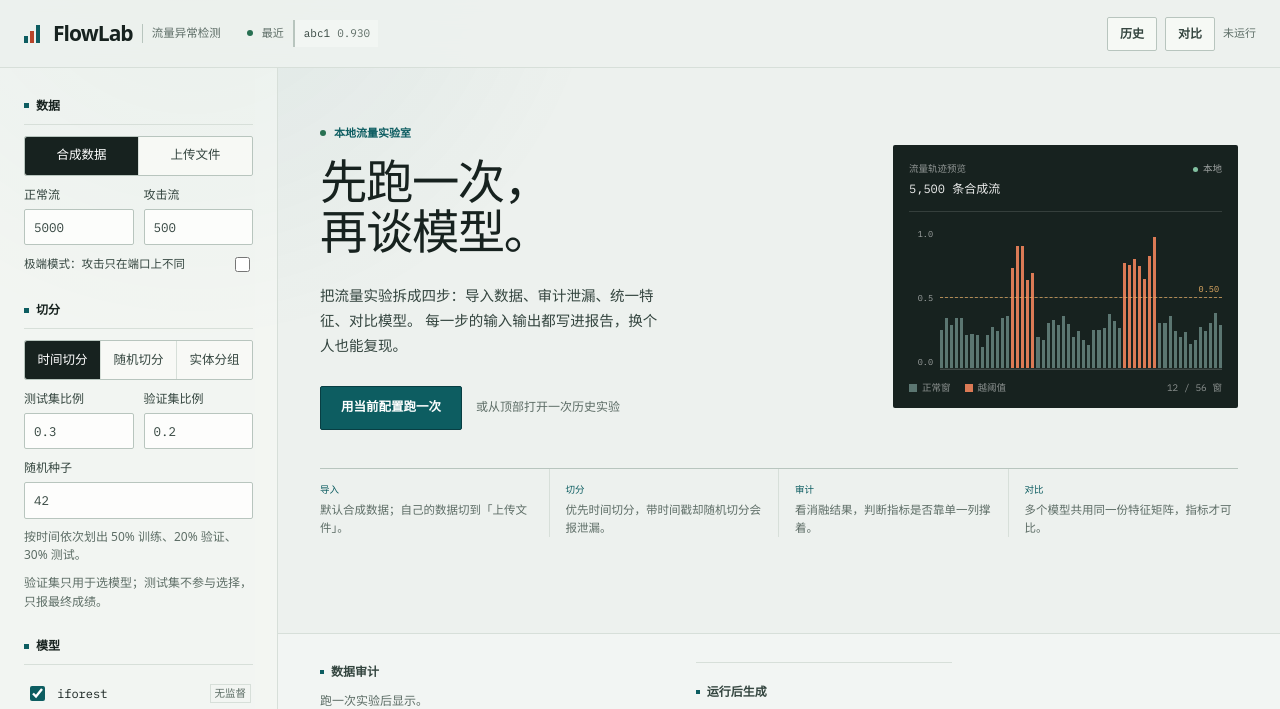
App history restore › shows live job progress and requires confirmation before cancelling
Later steps or results of the test are not shown.
Click the button "用当前配置跑一次" at (391, 408), box [320,386,462,430]
(page scrolled)
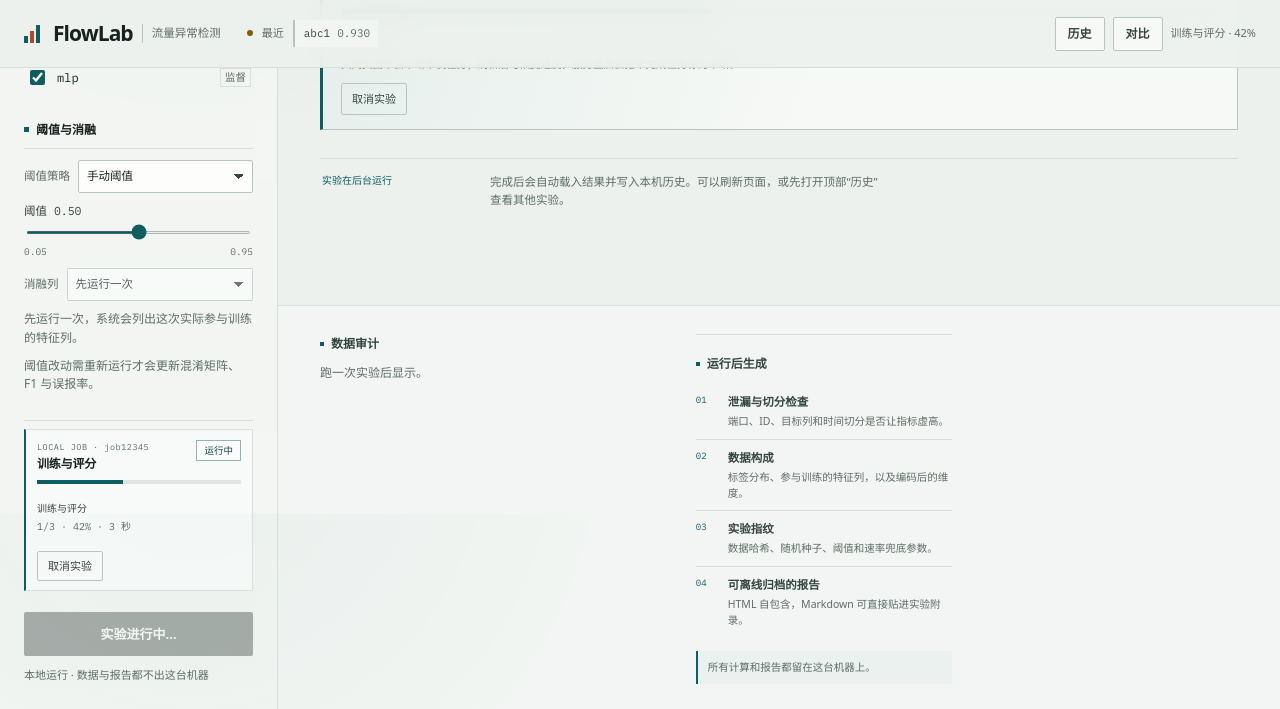
Click the button "取消实验" below "阈值改动需重新运行才会更新混淆矩阵、F1 与误报率。" at (70, 566), box [37,551,103,581]
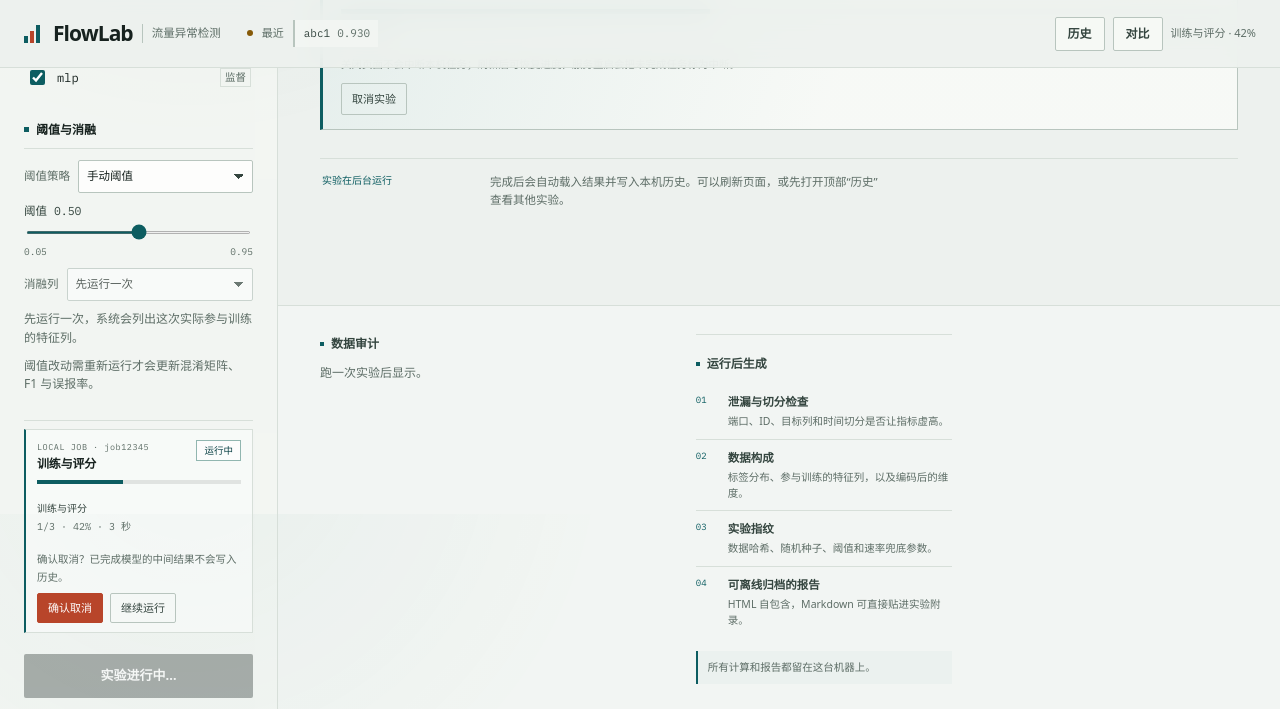
Check: the button "确认取消" is shown, box [37,593,103,623]
